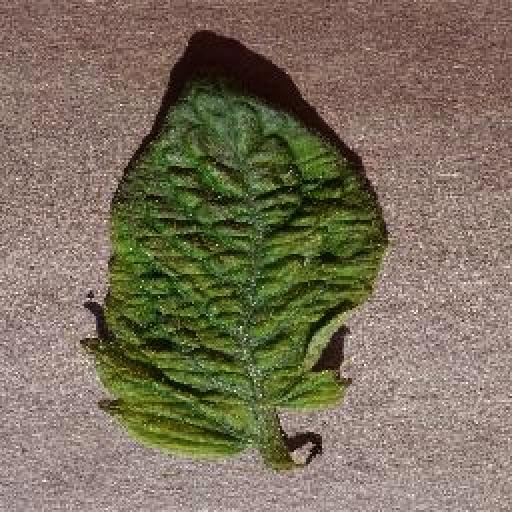disease_tomato: (84, 78, 386, 454)
